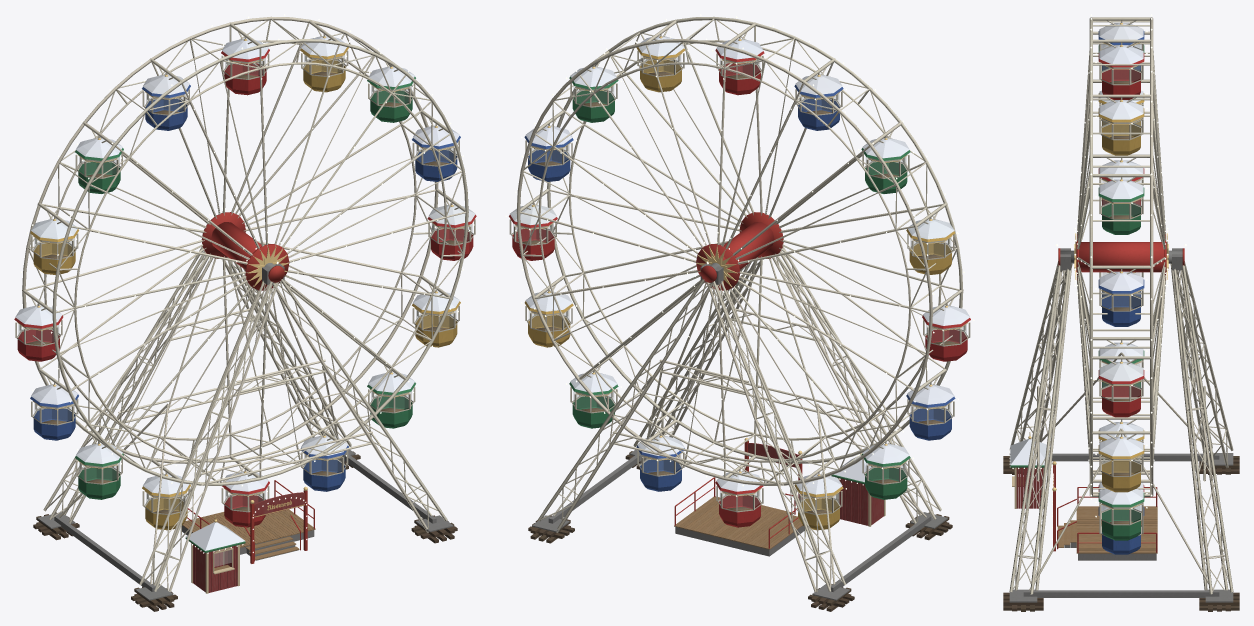
Rendered from ferris.lite.glb.
3 views of the same model, side by side, from view 1: azimuth 30°, elevation 25°; view 2: azimuth 150°, elevation 25°; view 3: azimuth 270°, elevation 25° (orthographic).
Parts seen in each view (by area): view 1: wheel_steel, frame_steel, frame_dark, frame_paint, wheel_hub, frame_wood, frame_sleepers, gond14_body, gond13_body, gond1_body, gond12_body, frame_red (+18 smaller); view 2: wheel_steel, frame_steel, frame_dark, frame_wood, wheel_hub, frame_paint, frame_sleepers, gond0_body, gond13_body, gond14_body, gond1_body, gond12_body (+17 smaller); view 3: frame_steel, wheel_steel, frame_dark, frame_wood, wheel_hub, frame_sleepers, gond2_body, gond3_body, gond5_body, gond4_body, gond7_body, gond6_body (+33 smaller).
Boxes of the visible parts, bbox=[...] form: wheel_steel: bbox=[22, 16, 468, 485]; frame_steel: bbox=[43, 246, 447, 591]; frame_dark: bbox=[37, 263, 453, 600]; frame_paint: bbox=[191, 492, 304, 593]; wheel_hub: bbox=[201, 212, 289, 290]; frame_wood: bbox=[182, 509, 315, 570]; frame_sleepers: bbox=[33, 451, 457, 611]; gond14_body: bbox=[75, 453, 123, 499]; gond13_body: bbox=[30, 394, 78, 440]; gond1_body: bbox=[301, 445, 348, 491]; gond12_body: bbox=[14, 315, 63, 361]; frame_red: bbox=[187, 265, 314, 563]; wheel_steel: bbox=[516, 16, 963, 485]; frame_steel: bbox=[538, 246, 941, 592]; frame_dark: bbox=[532, 263, 947, 600]; frame_wood: bbox=[674, 496, 802, 549]; wheel_hub: bbox=[696, 212, 783, 290]; frame_paint: bbox=[748, 443, 885, 526]; frame_sleepers: bbox=[528, 451, 952, 611]; gond0_body: bbox=[715, 481, 763, 527]; gond13_body: bbox=[906, 394, 955, 440]; gond14_body: bbox=[861, 453, 910, 499]; gond1_body: bbox=[636, 445, 684, 491]; gond12_body: bbox=[922, 315, 970, 361]; frame_steel: bbox=[1009, 261, 1233, 594]; wheel_steel: bbox=[1077, 17, 1165, 496]; frame_dark: bbox=[1009, 248, 1233, 602]; frame_wood: bbox=[1018, 477, 1157, 553]; wheel_hub: bbox=[1076, 234, 1166, 280]; frame_sleepers: bbox=[1003, 456, 1239, 611]; gond2_body: bbox=[1098, 493, 1144, 540]; gond3_body: bbox=[1098, 445, 1144, 492]; gond5_body: bbox=[1098, 279, 1144, 326]; gond4_body: bbox=[1098, 370, 1144, 417]; gond7_body: bbox=[1098, 108, 1144, 155]; gond6_body: bbox=[1098, 187, 1144, 234].
Bounding box in the file's own units: 24.88 × 25.94 × 11.1.
Materials: 7 (3 with a texture image).
